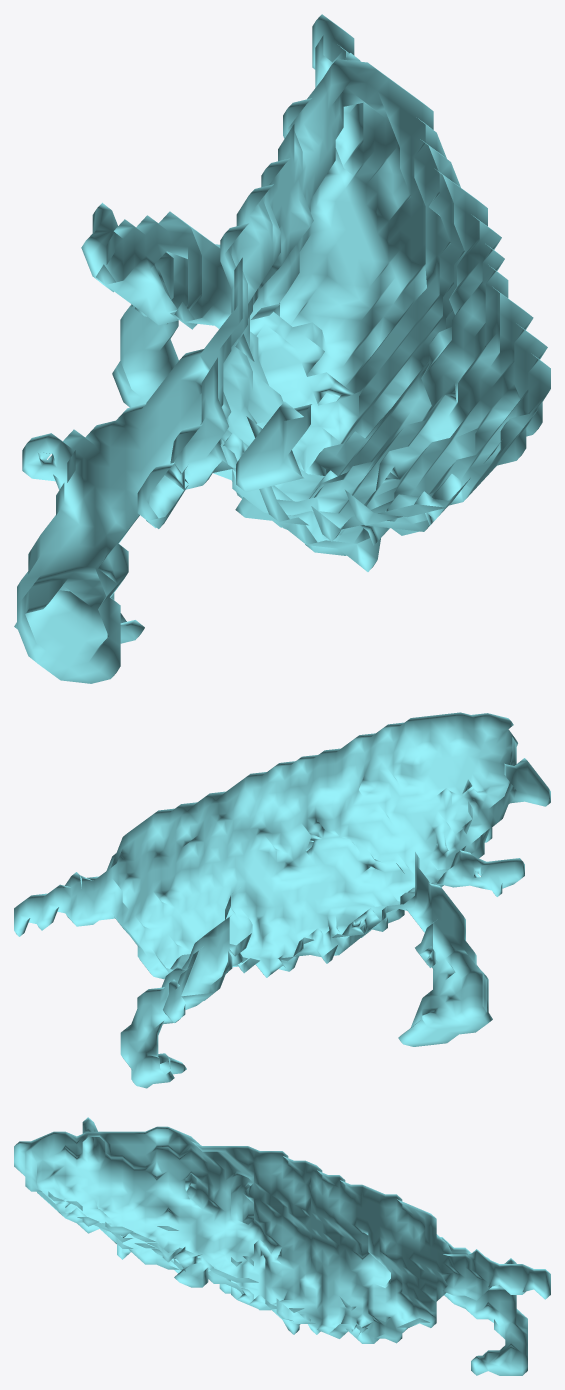
File: osteocyte_49.glb
3 renders of one model, top to bottom at view 1: azimuth 30°, elevation 25°; view 2: azimuth 150°, elevation 25°; view 3: azimuth 270°, elevation 25°, orthographic. The views are drawn at different scales.
Visible parts, largest first — view 1: osteocyte_49; view 2: osteocyte_49; view 3: osteocyte_49.
Boxes of the visible parts, left/top/right/bottom form: osteocyte_49: left=14, top=14, right=550, bottom=683; osteocyte_49: left=14, top=712, right=550, bottom=1088; osteocyte_49: left=14, top=1117, right=550, bottom=1375.
Bounding box in the file's own units: 13.41 × 8.05 × 21.01.
